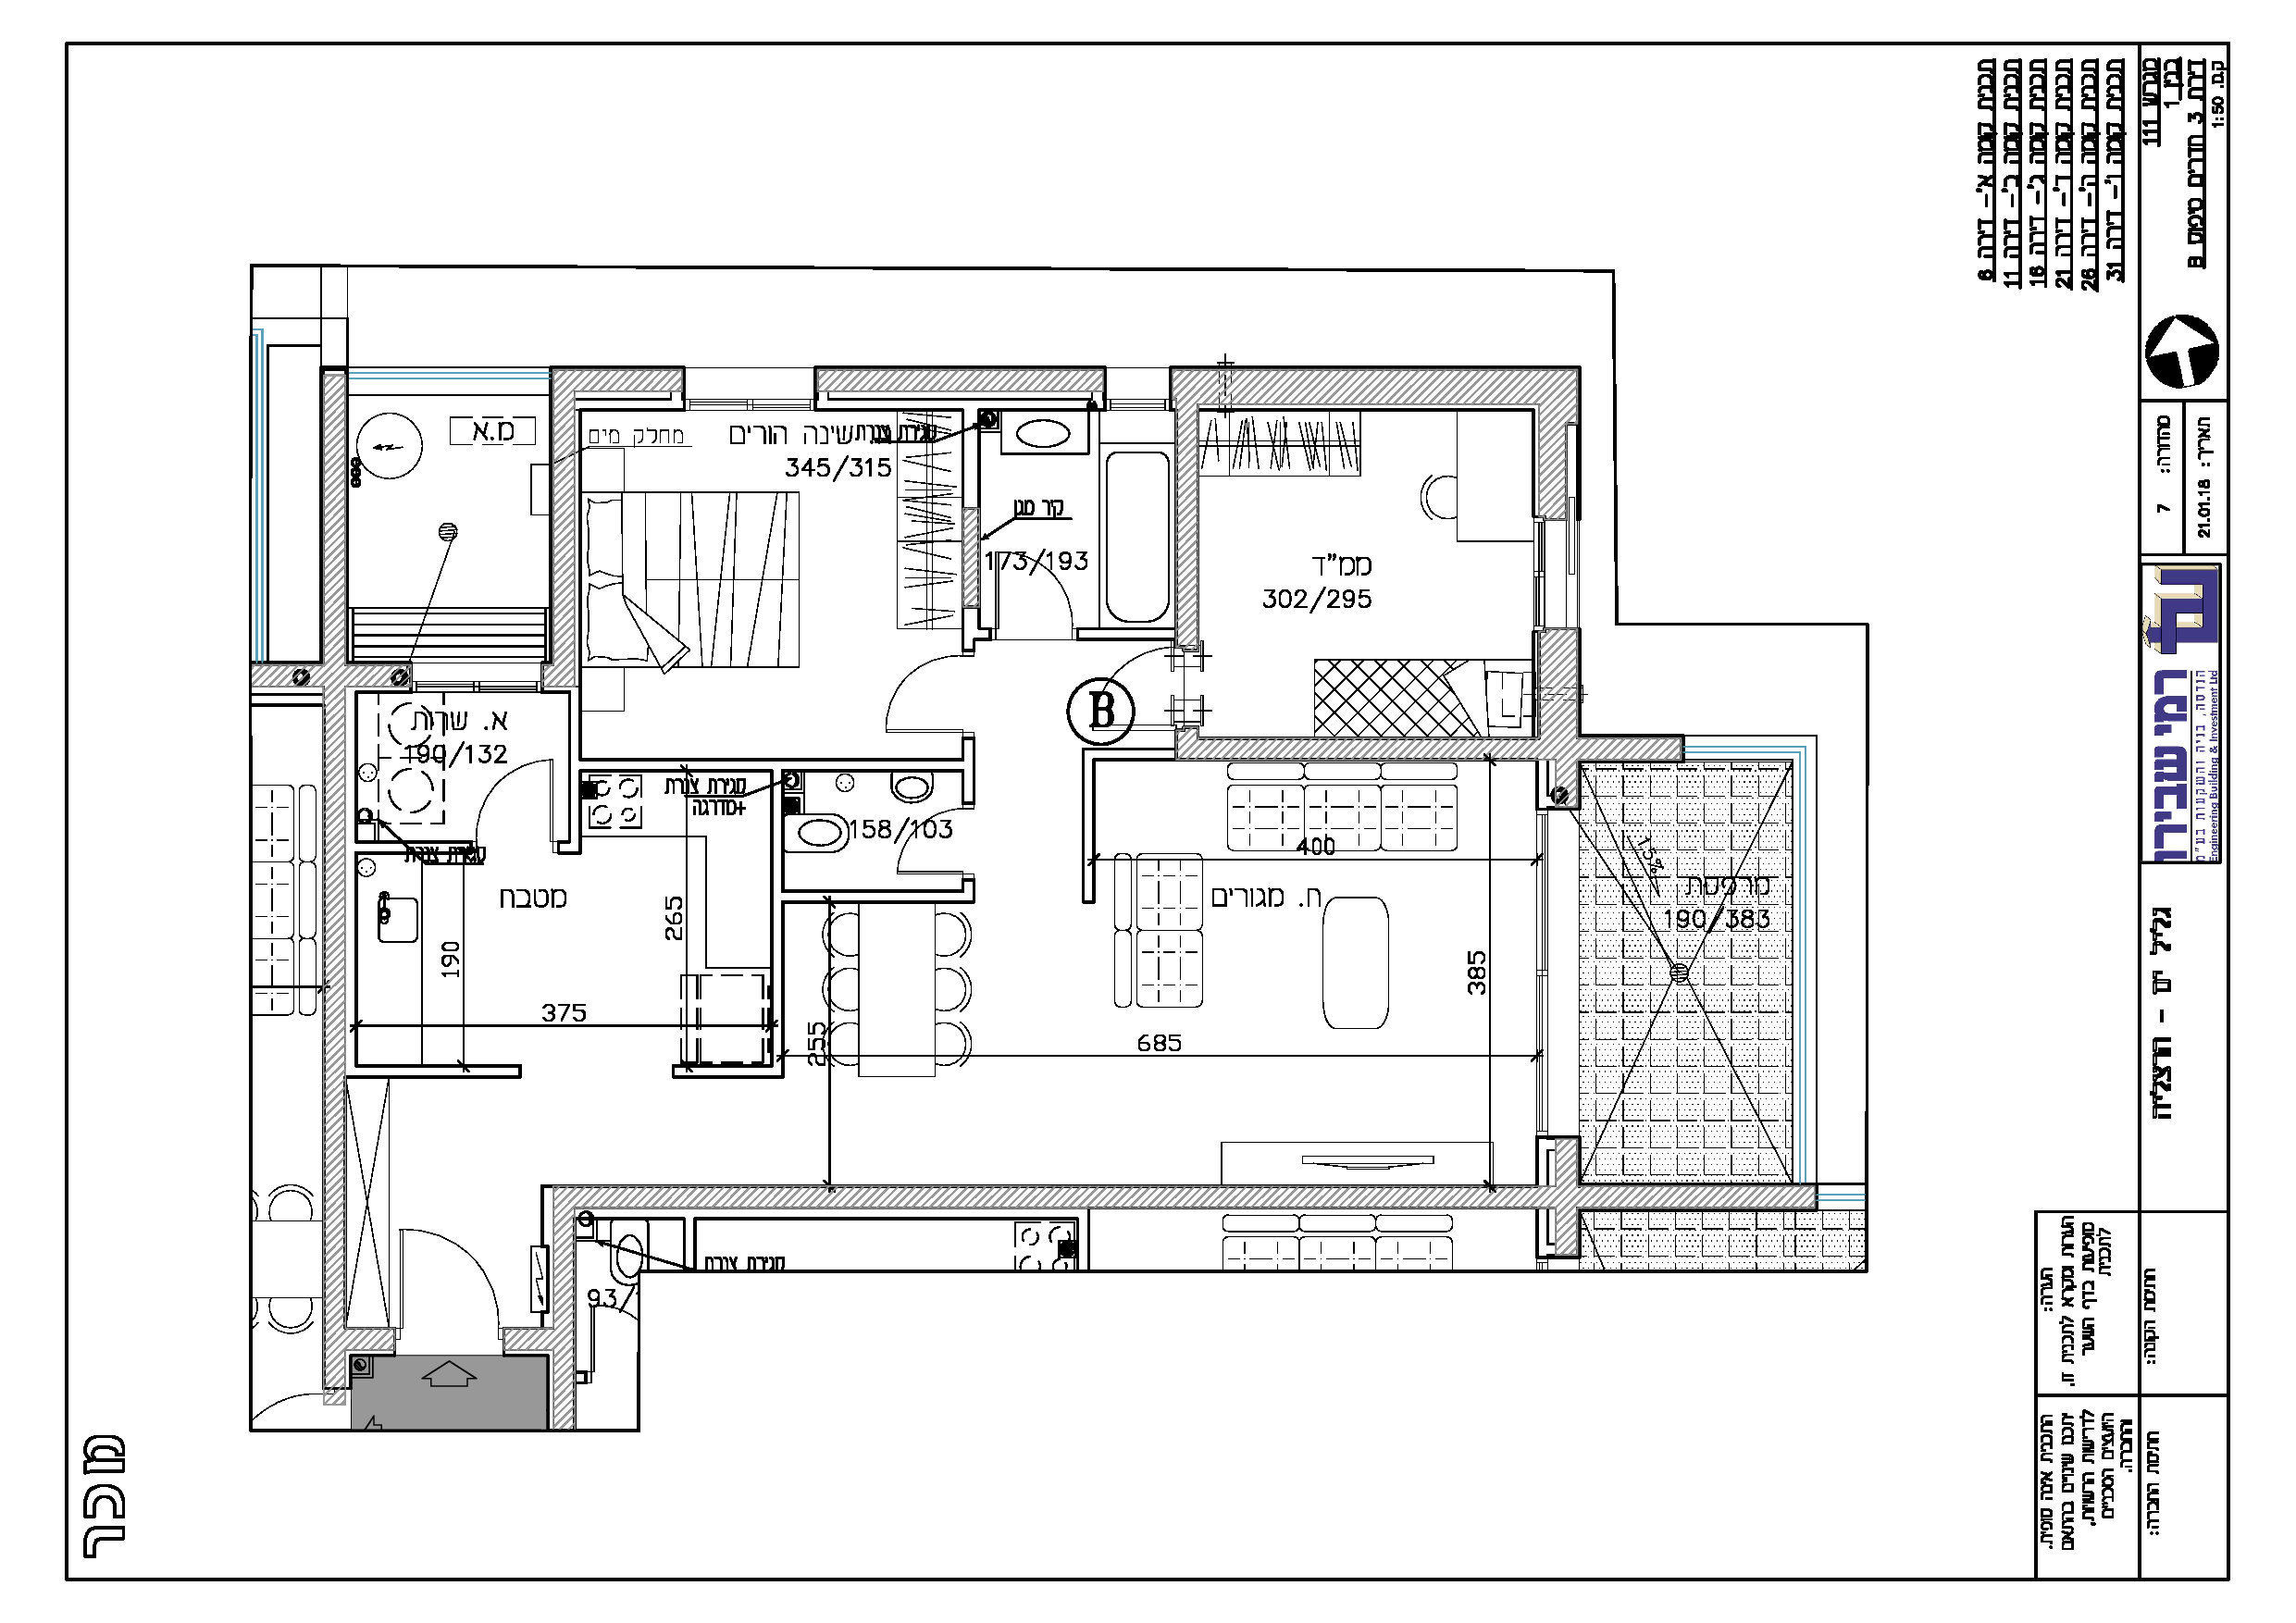door: (395, 1212, 506, 1317), (873, 648, 954, 738), (471, 750, 562, 827), (891, 813, 947, 885)
wall: (321, 372, 343, 1367), (548, 1187, 1560, 1207), (1228, 374, 1567, 406), (1180, 736, 1678, 757), (550, 374, 576, 682), (819, 365, 1103, 388), (1569, 1186, 1816, 1208)
window: (411, 678, 543, 697), (1528, 516, 1549, 632)
